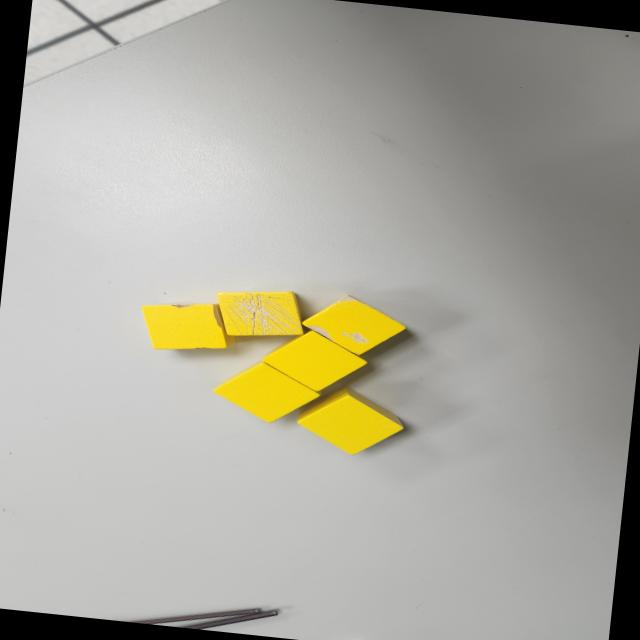broken: (296, 291, 410, 361), (135, 295, 233, 357), (211, 284, 306, 344)
yellow: (291, 380, 408, 460), (208, 356, 324, 430), (258, 324, 370, 396)
